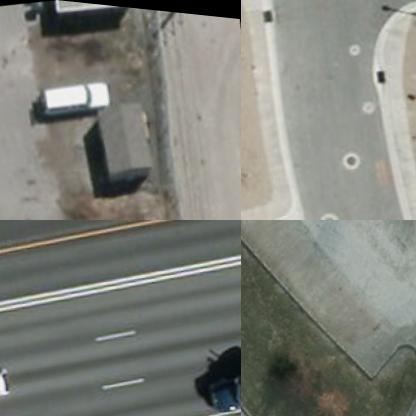car: (38, 65, 112, 118), (0, 349, 23, 415), (241, 410, 287, 415)
